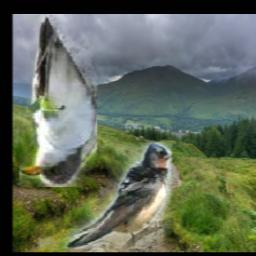Cuckoo: (19, 16, 97, 188)
Swallow: (40, 142, 172, 249)
